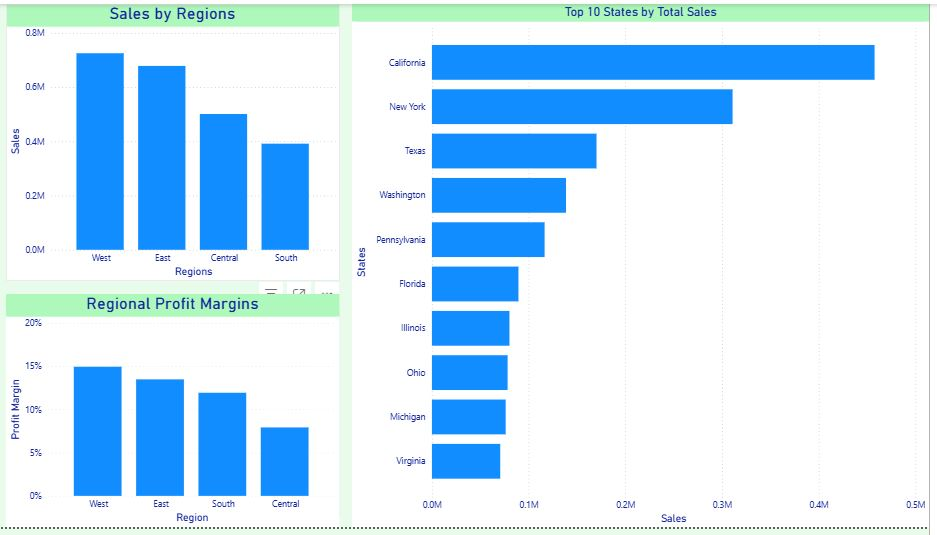

What the dashboard file says about the page in this screenshot:
{"tool":"powerbi","page":{"name":"Regional_Performance","canvas":[1280,720],"ordinal":2},"visuals":[{"type":"shape","box":[10.1,0,458.6,381.3],"z":0},{"type":"shape","box":[10.1,399.8,458.6,320.8],"z":1000},{"type":"shape","box":[485.5,0,794.5,720.6],"z":2000},{"type":"columnChart","title":"Sales by Regions","fields":{"Y":["Sum(clean_superstore_sales.sales)"],"Category":["clean_superstore_sales.region"]},"box":[10.1,0,458.6,381.3],"z":3000},{"type":"clusteredBarChart","title":"Top 10 States by Total Sales","fields":{"Category":["clean_superstore_sales.state"],"Y":["Sum(clean_superstore_sales.sales)"]},"box":[485.5,0,794.5,720.6],"z":4000},{"type":"clusteredColumnChart","title":"Regional Profit Margins","fields":{"Category":["clean_superstore_sales.region"],"Y":["measures (2).Profit Margin"]},"box":[10.1,399.8,458.6,320.8],"z":5000}]}

Visuals, with their boxes in screenshot pixels (x1, y1, x2, y2), scaled from the page's 1280x720 canvas onto the 937x535 screenshot:
shape: (7,0,343,283)
shape: (7,297,343,534)
shape: (355,0,936,534)
"Sales by Regions" columnChart: (7,0,343,283)
"Top 10 States by Total Sales" clusteredBarChart: (355,0,936,534)
"Regional Profit Margins" clusteredColumnChart: (7,297,343,534)
